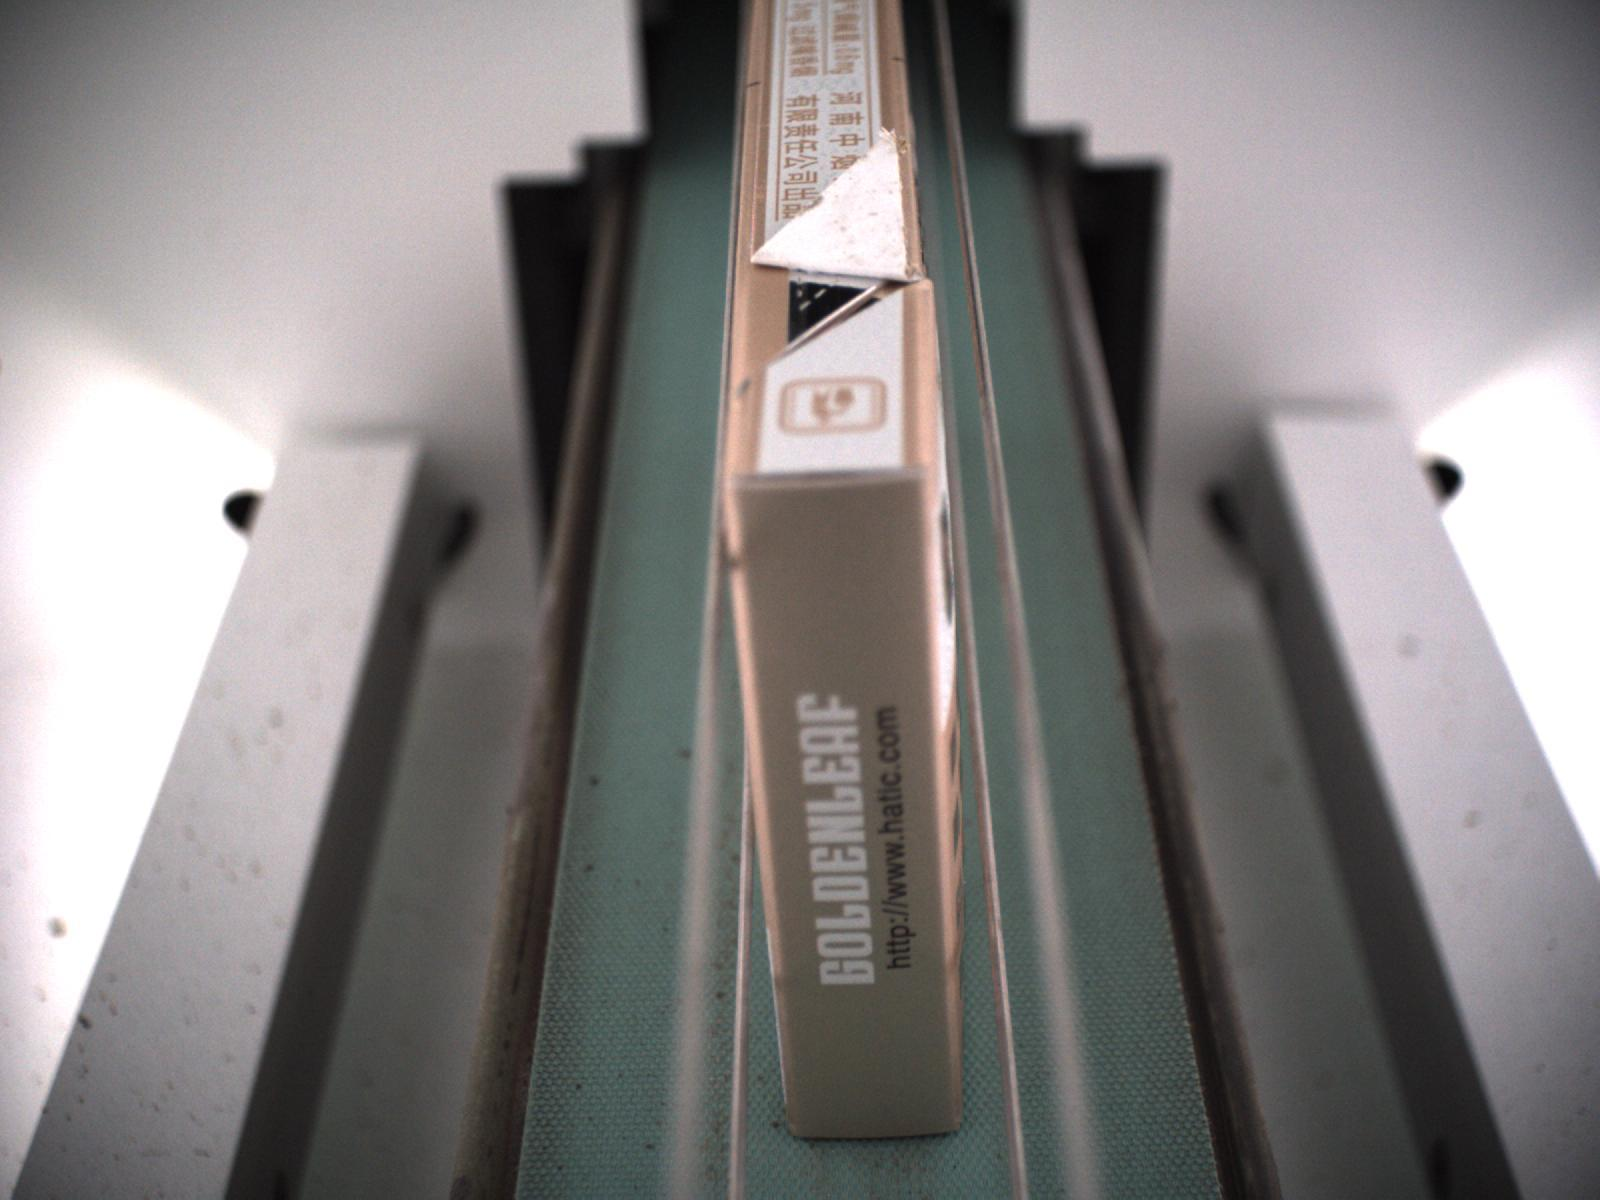outerFold_upper_2: (734, 122, 936, 393)
